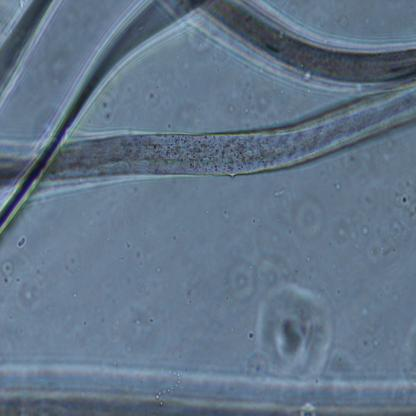Background material: (0, 346, 416, 416), (0, 0, 181, 143), (250, 276, 337, 380), (362, 176, 416, 262), (217, 256, 264, 302), (295, 187, 328, 246), (331, 216, 364, 250), (229, 98, 271, 120), (12, 282, 43, 310), (0, 260, 12, 290), (334, 14, 350, 30), (15, 233, 25, 250)
Microfibre: (0, 79, 416, 191), (196, 0, 416, 88)
